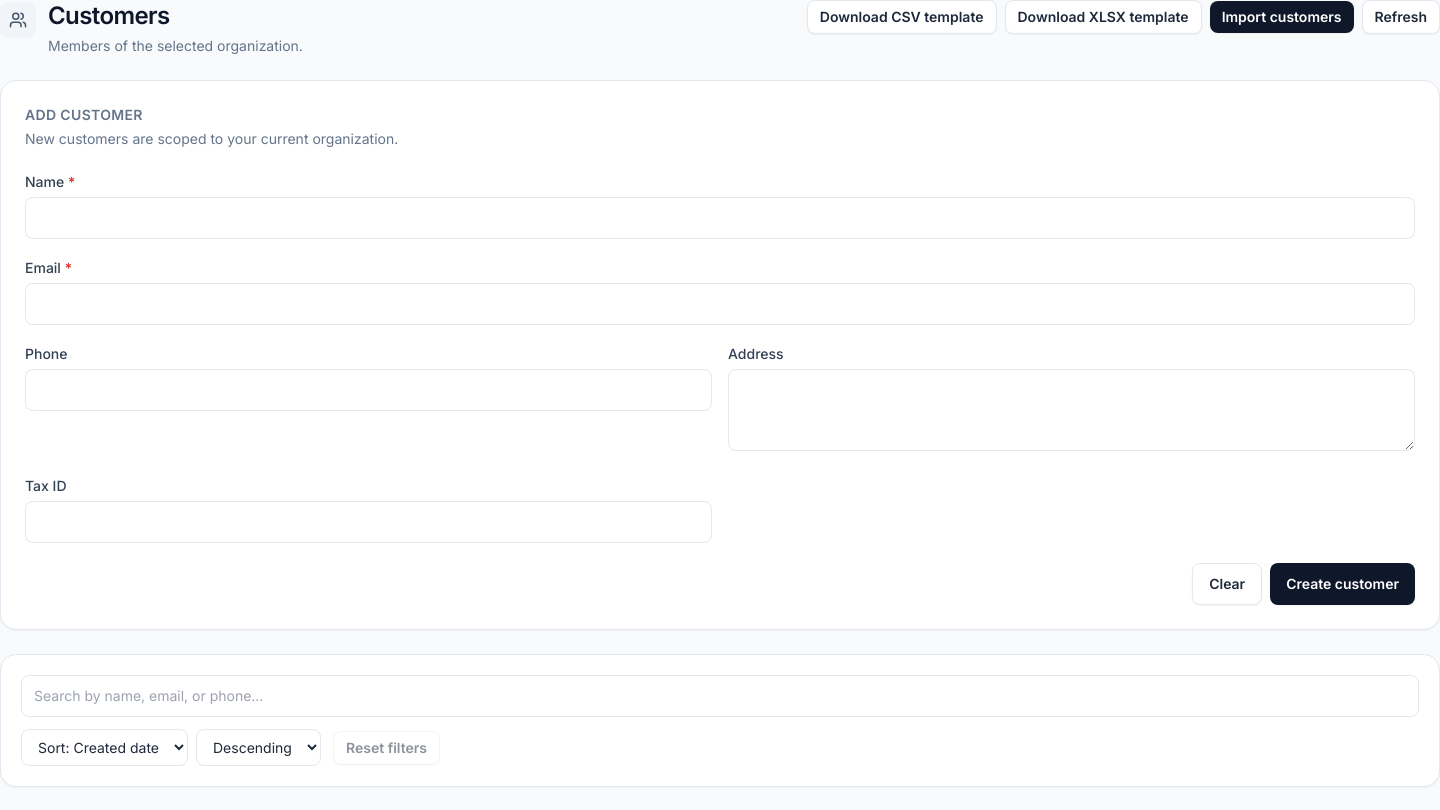
Scenario: CustomersPage -- 'Open existing customer' shortcut (Phase UX5) › opens the matched customer inline for editing, without navigating away or losing the workflow
Step 1. Type "Estudio Creativo Delta 2" into the field labelled "Name *" → (720, 218), box [25,197,1415,239]
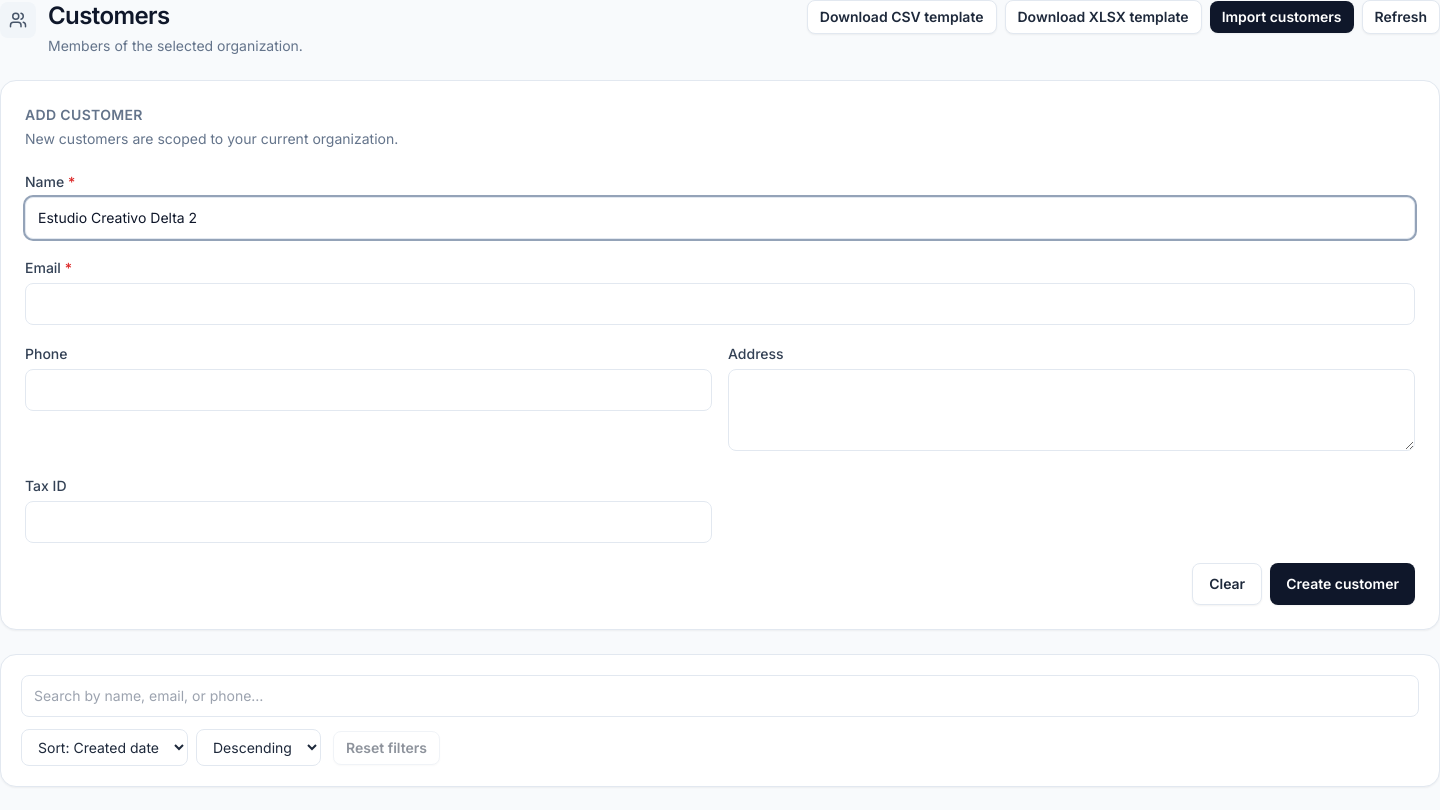
Step 2. Type "otro@example.com" into the field labelled "Email *" → (720, 304), box [25,283,1415,325]
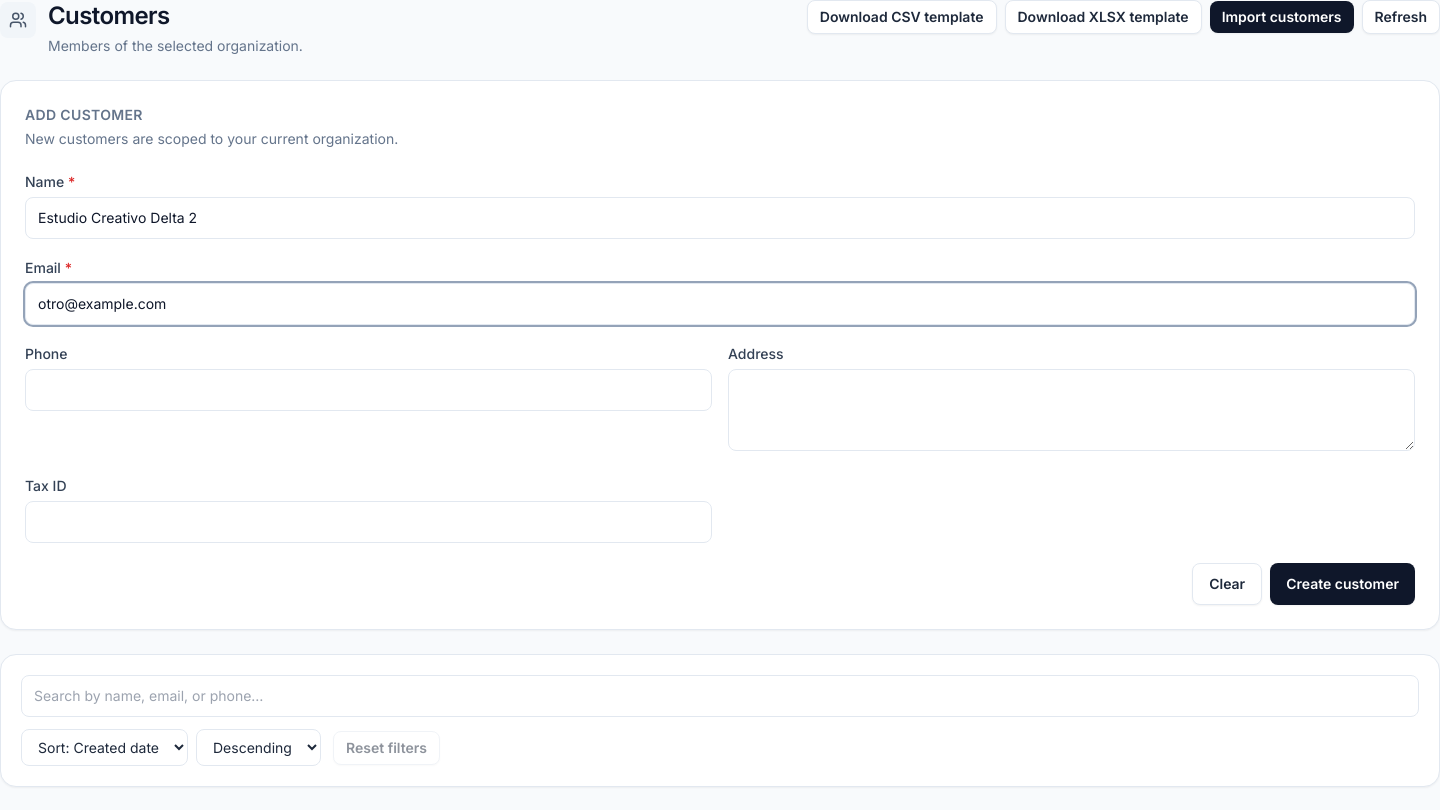
Step 3. Type "123456789" into the field labelled "Tax ID" → (368, 522), box [25,501,712,543]
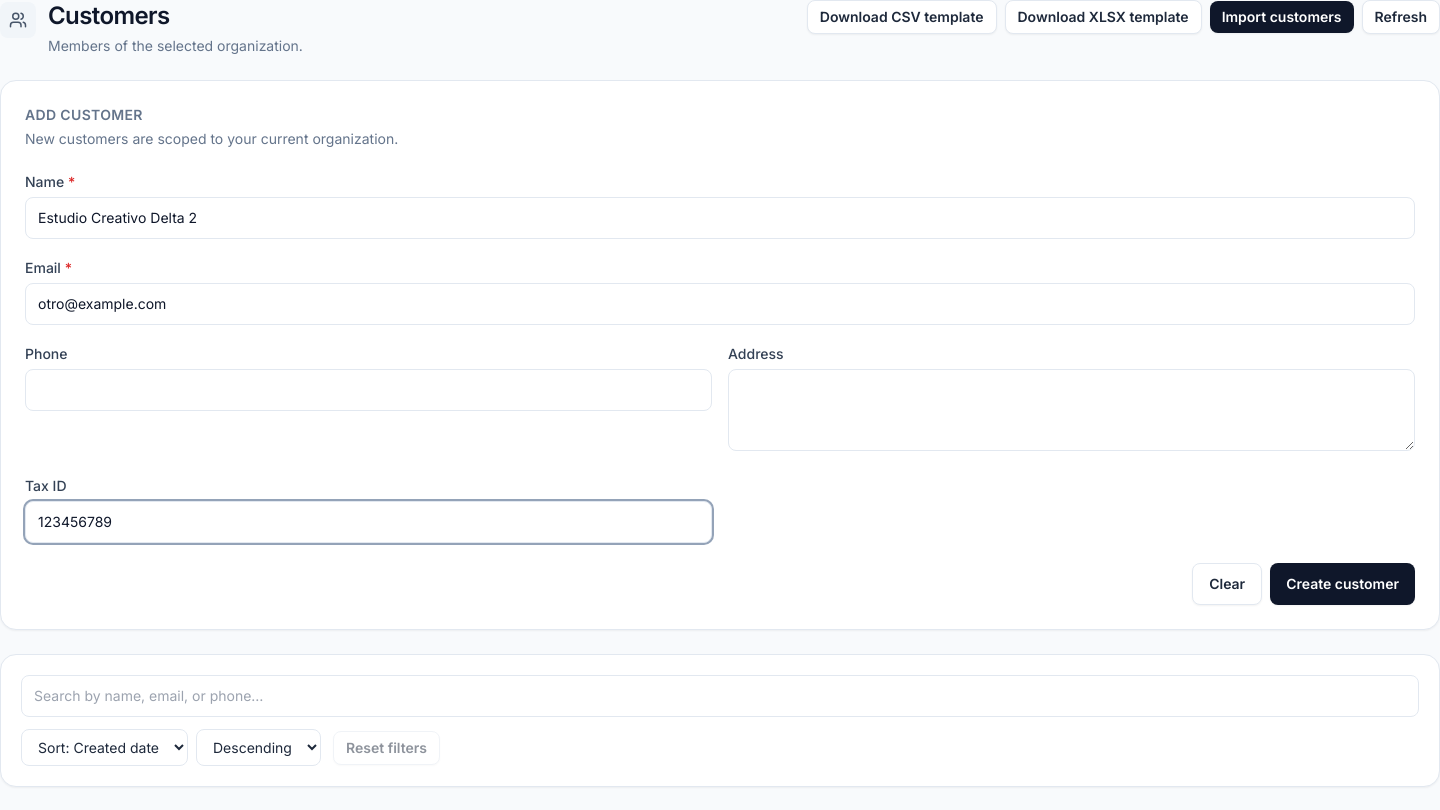
Step 4. Click the button "Create customer" → (1343, 584), box [1270,563,1415,605]
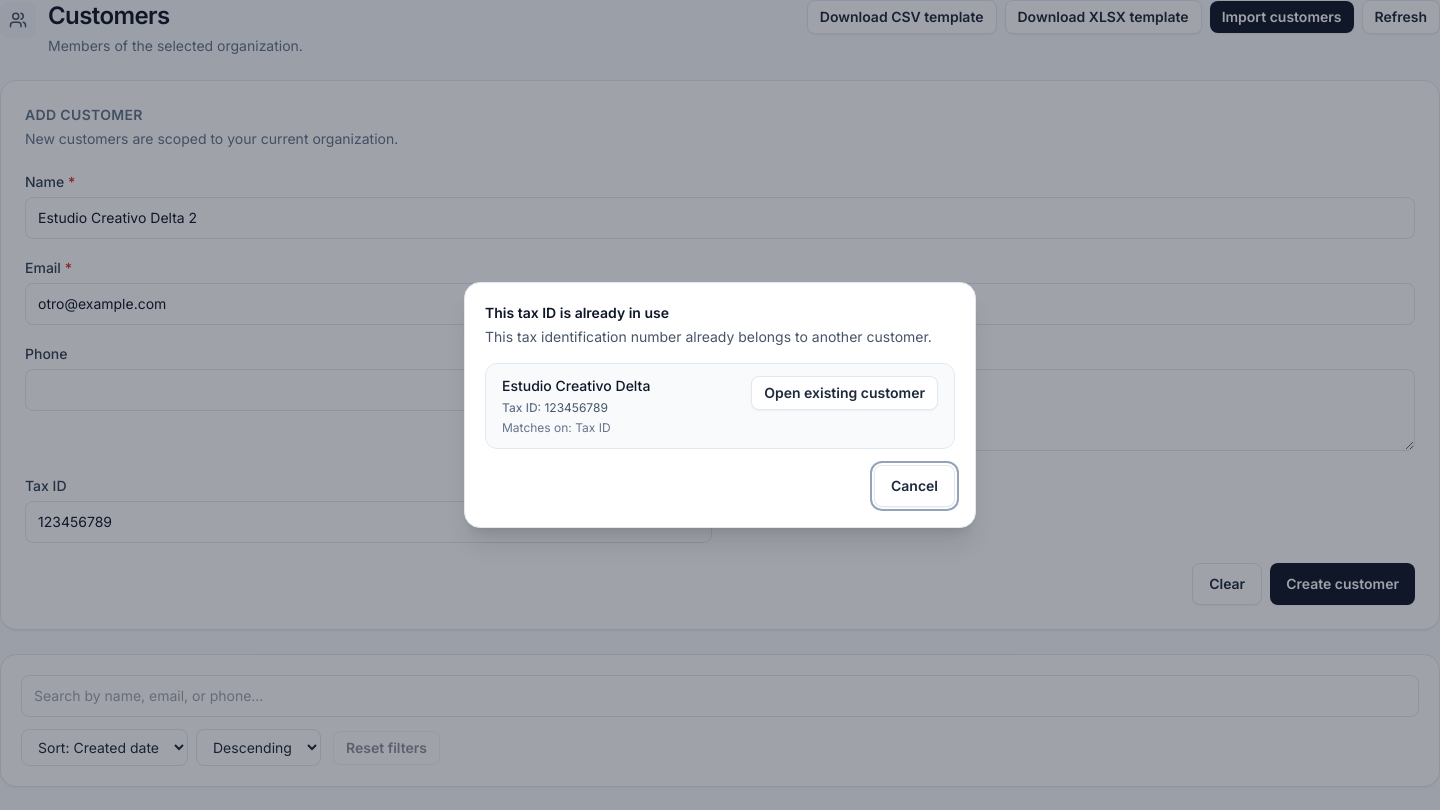
Step 5. Click the button "Open existing customer" → (845, 393), box [751,376,938,410]
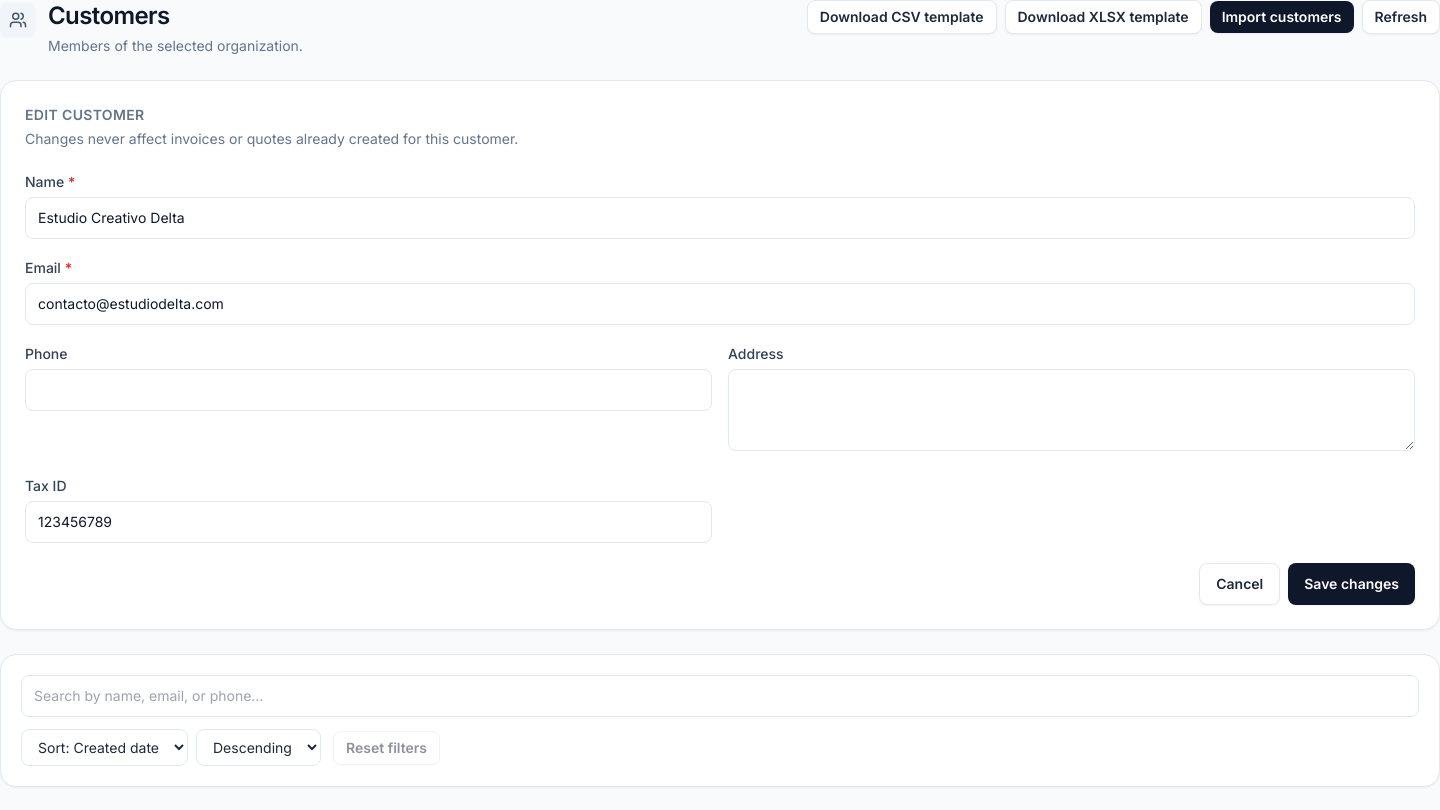
Result: the heading "Edit customer" is shown at [25,106,144,123]
Result: the field labelled "Name *" holds "Estudio Creativo Delta" at [25,197,1415,239]
Result: the field labelled "Email *" holds "contacto@estudiodelta.com" at [25,283,1415,325]
